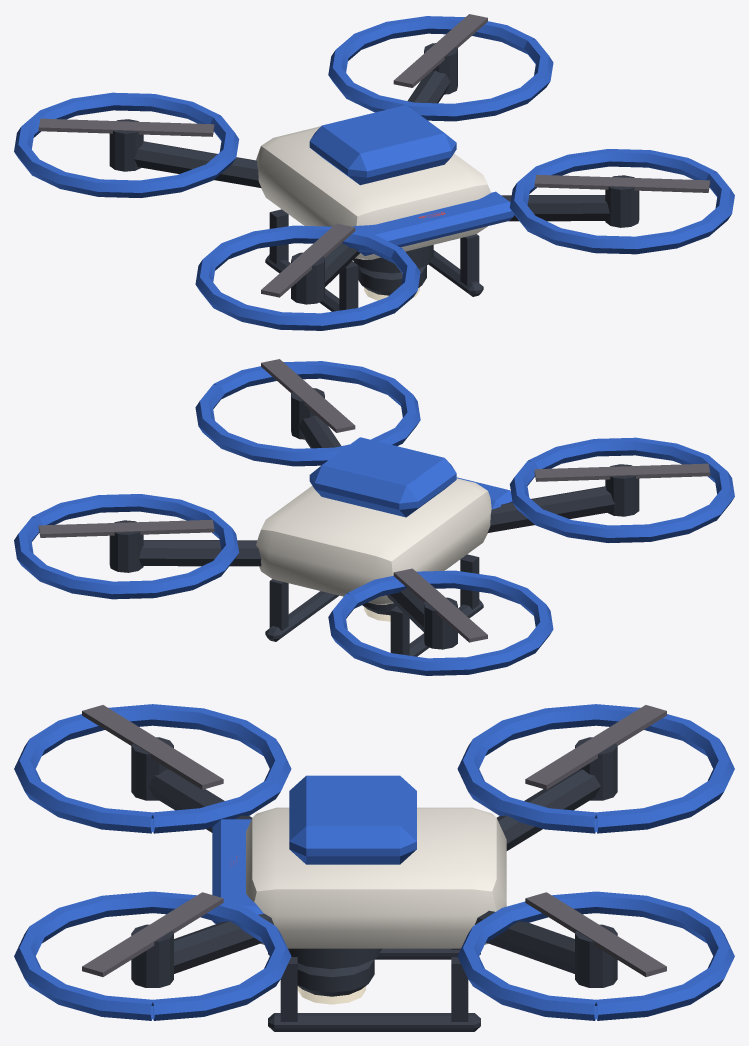
The model's file is drone.glb.
The picture shows the model from 3 angles, top to bottom: view 1: azimuth 30°, elevation 25°; view 2: azimuth 150°, elevation 25°; view 3: azimuth 270°, elevation 25°; orthographic projection. The views are drawn at different scales.
Visible parts, largest first — view 1: drone; view 2: drone; view 3: drone.
Part boxes in pixels (<box>): drone: <box>14,14,734,330</box>; drone: <box>14,359,734,675</box>; drone: <box>14,704,734,1031</box>.
Size of the model in its own units: 1.69 by 0.5 by 1.69.
Materials: 2 (2 with a texture image).
